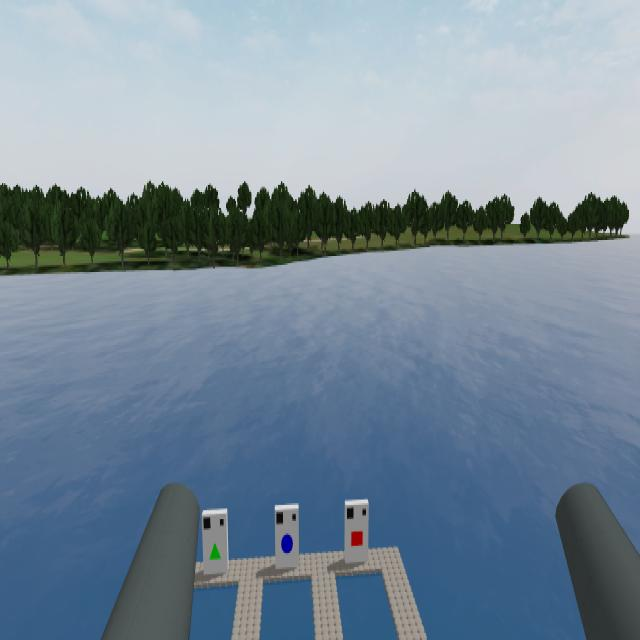dock: (340, 493, 380, 562), (198, 508, 234, 578), (272, 498, 304, 562)
